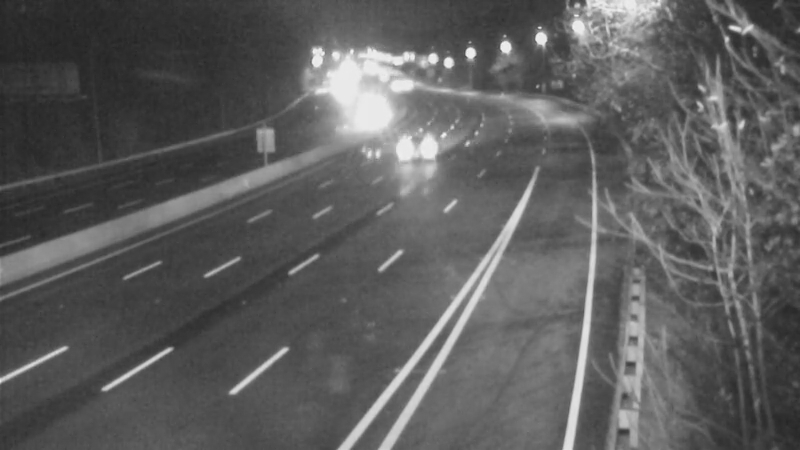vehicle: (399, 116, 449, 166)
